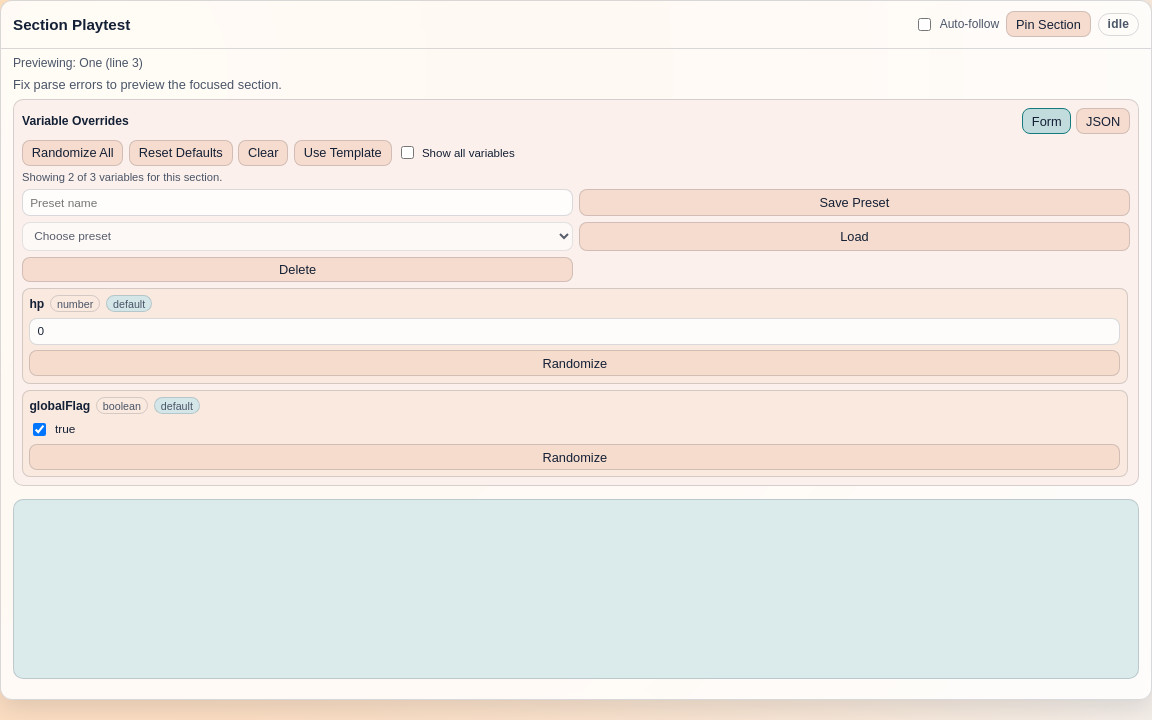
Test: PreviewPane › shows section-relevant variables by default and can reveal all
Expected: the text "hp" is shown, [29,297,44,311]
Expected: the text "globalFlag" is shown, [29,399,90,413]
Click the checkbox labelled "Show all variables".
click(408, 153)  # box [401,146,414,159]
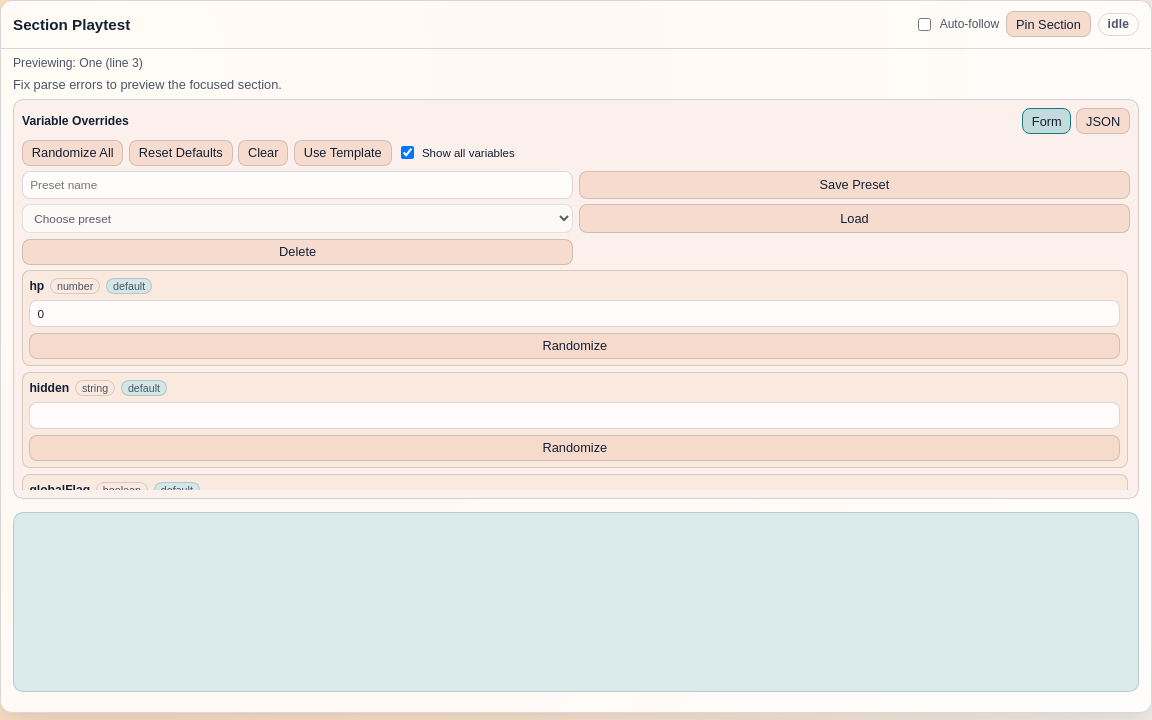
Result: the text "hidden" is shown at [29,381,69,395]
